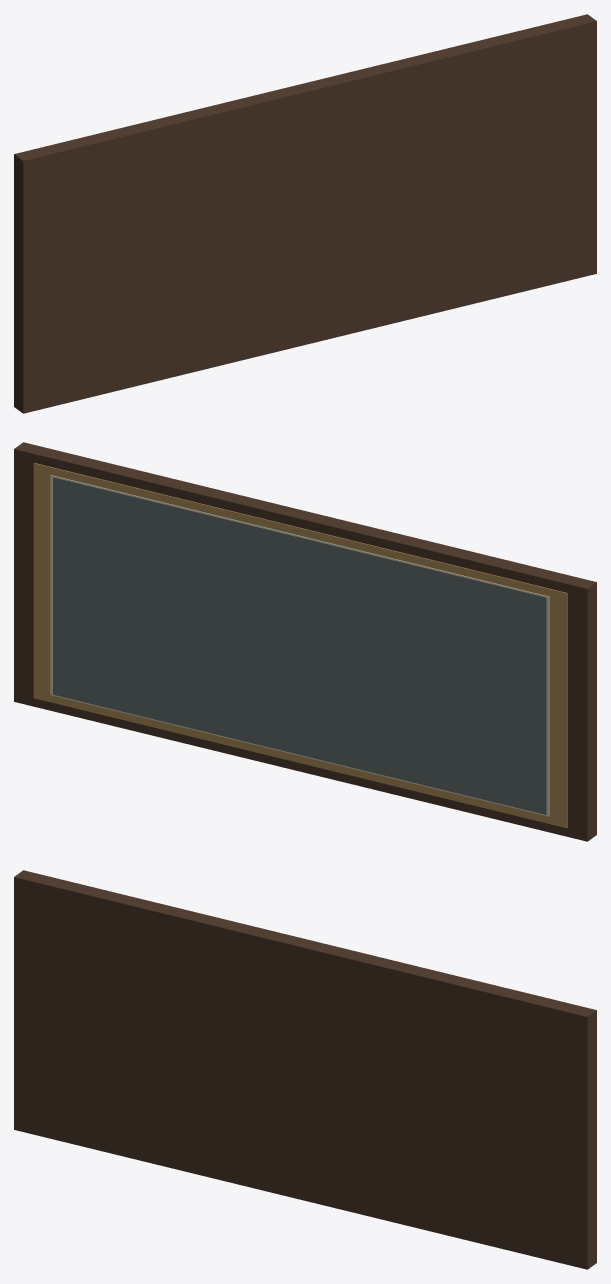
File: LP_Toilet_Mirror.fbx
3 views of the same model, one above another, from view 1: azimuth 30°, elevation 25°; view 2: azimuth 150°, elevation 25°; view 3: azimuth 330°, elevation 25° (orthographic).
Parts seen in each view (by area): view 1: Walnut; view 2: M_Museum_BrushedMetal, Walnut, AgedBrass, WarmIvory; view 3: Walnut.
Part boxes in pixels (<box>): Walnut: <box>14,14,596,413</box>; M_Museum_BrushedMetal: <box>53,477,546,814</box>; Walnut: <box>14,442,596,841</box>; AgedBrass: <box>33,463,567,828</box>; WarmIvory: <box>50,475,549,816</box>; Walnut: <box>14,870,596,1269</box>.
Size of the model in its own units: 190 by 80 by 6.
